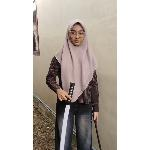Pedang: (52, 81, 78, 150)
